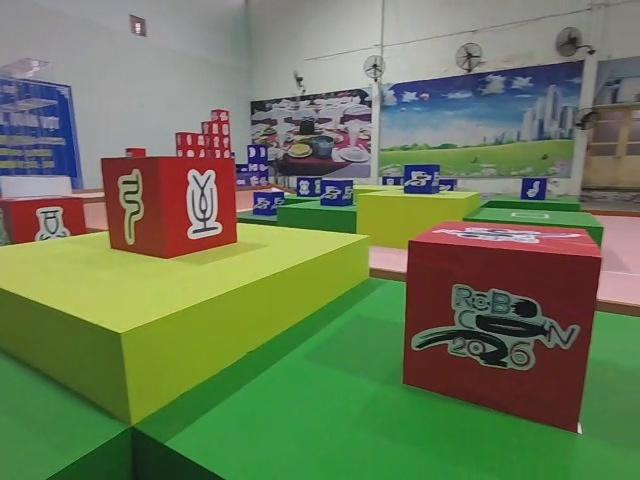R1: (402, 218, 603, 435)
R2 Fake: (99, 154, 239, 260)
R2 Real: (2, 193, 88, 259)
